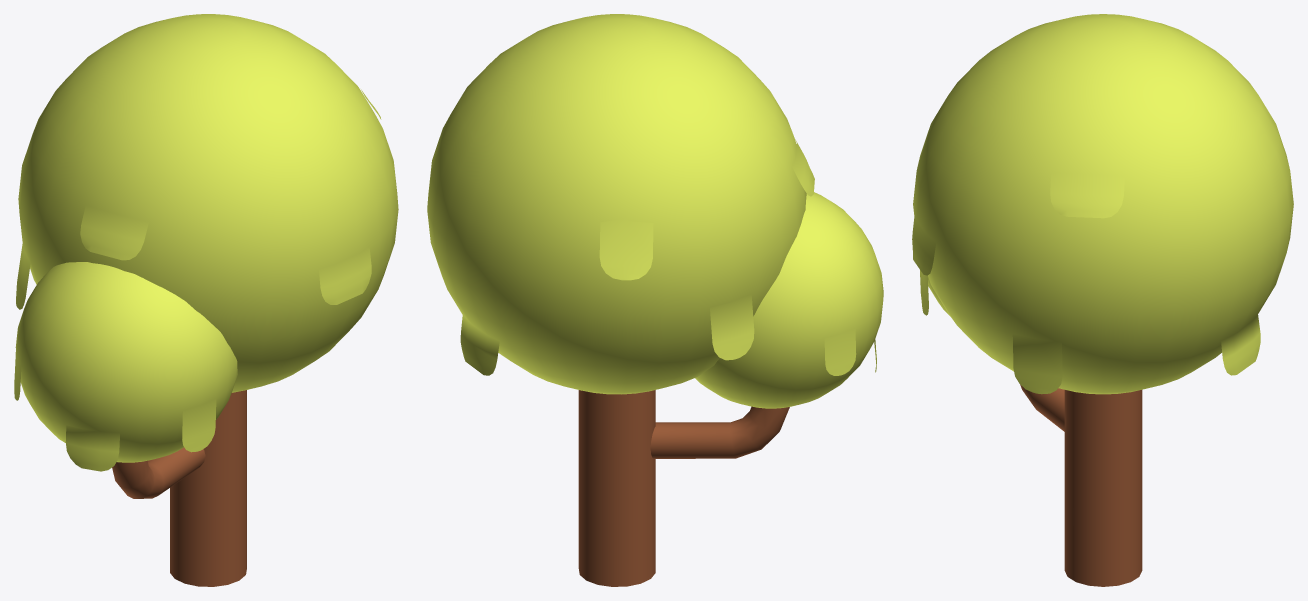
File: tree_simple.glb
The picture shows the model from 3 angles, left to right: view 1: azimuth 30°, elevation 25°; view 2: azimuth 150°, elevation 25°; view 3: azimuth 270°, elevation 25°; orthographic projection.
Parts seen in each view (by area): view 1: Leaf1_2, Leaf2_1, Trunk_0; view 2: Leaf1_2, Leaf2_1, Trunk_0; view 3: Leaf1_2, Trunk_0.
Part boxes in pixels (x1,y1,x2,y2): Leaf1_2: (16, 14, 398, 392); Leaf2_1: (14, 262, 237, 471); Trunk_0: (112, 390, 246, 586); Leaf1_2: (427, 14, 814, 394); Leaf2_1: (695, 192, 883, 408); Trunk_0: (578, 390, 789, 586); Leaf1_2: (912, 14, 1293, 394); Trunk_0: (1020, 384, 1142, 586).
Size of the model in its own units: 3.7 by 5.01 by 3.22.
